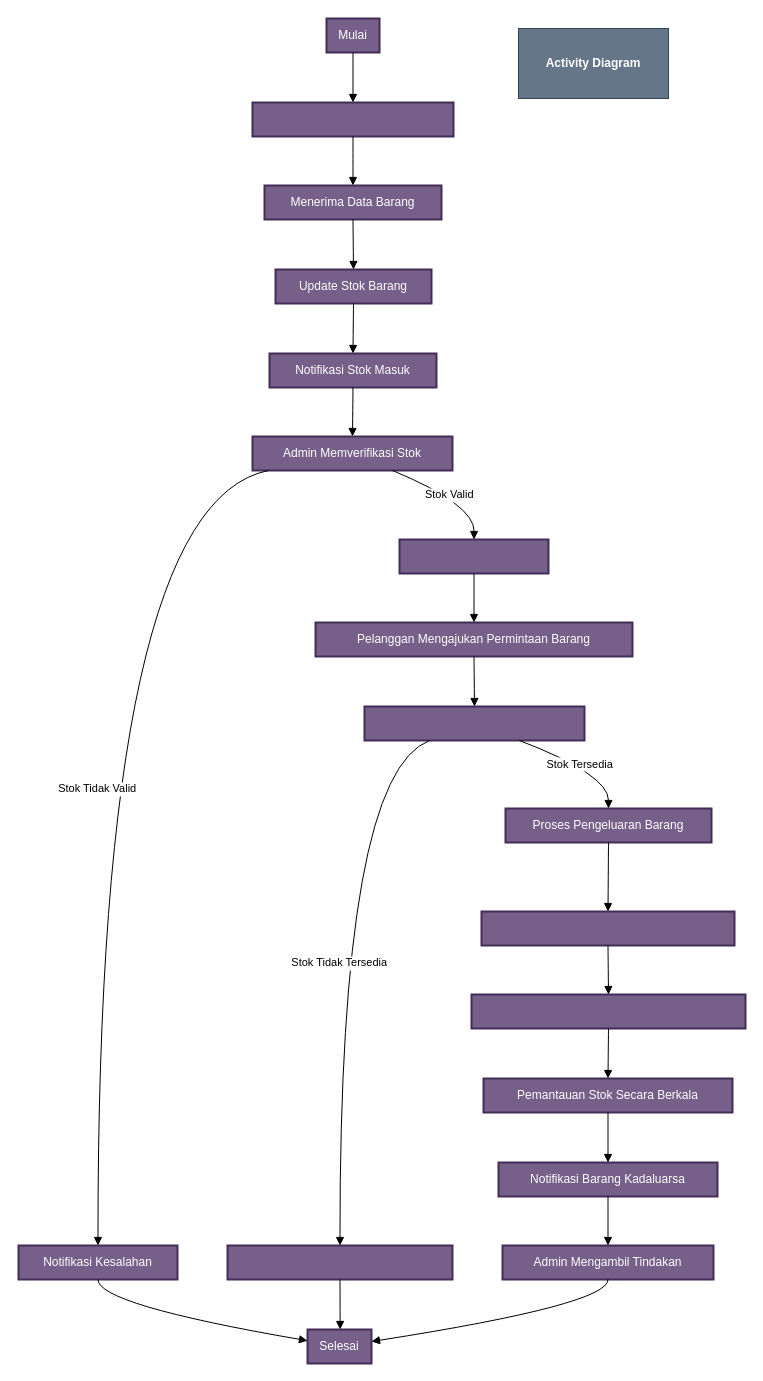
Image size: 763x1381. Some labels were removed from this diagram. The shapes that lost their labels are listed below. From the top down, each one's centre as x and y in pixels, then its label:
At (x=352, y=119): "Pemasok Mengirim Barang".
At (x=473, y=556): "Pencatatan Selesai".
At (x=474, y=723): "Mengecek Ketersediaan Stok".
At (x=607, y=928): "Update Stok Setelah Pengeluaran".
At (x=608, y=1011): "Notifikasi Pengeluaran ke Pelanggan".
At (x=339, y=1262): "Notifikasi Stok Tidak Tersedia".
